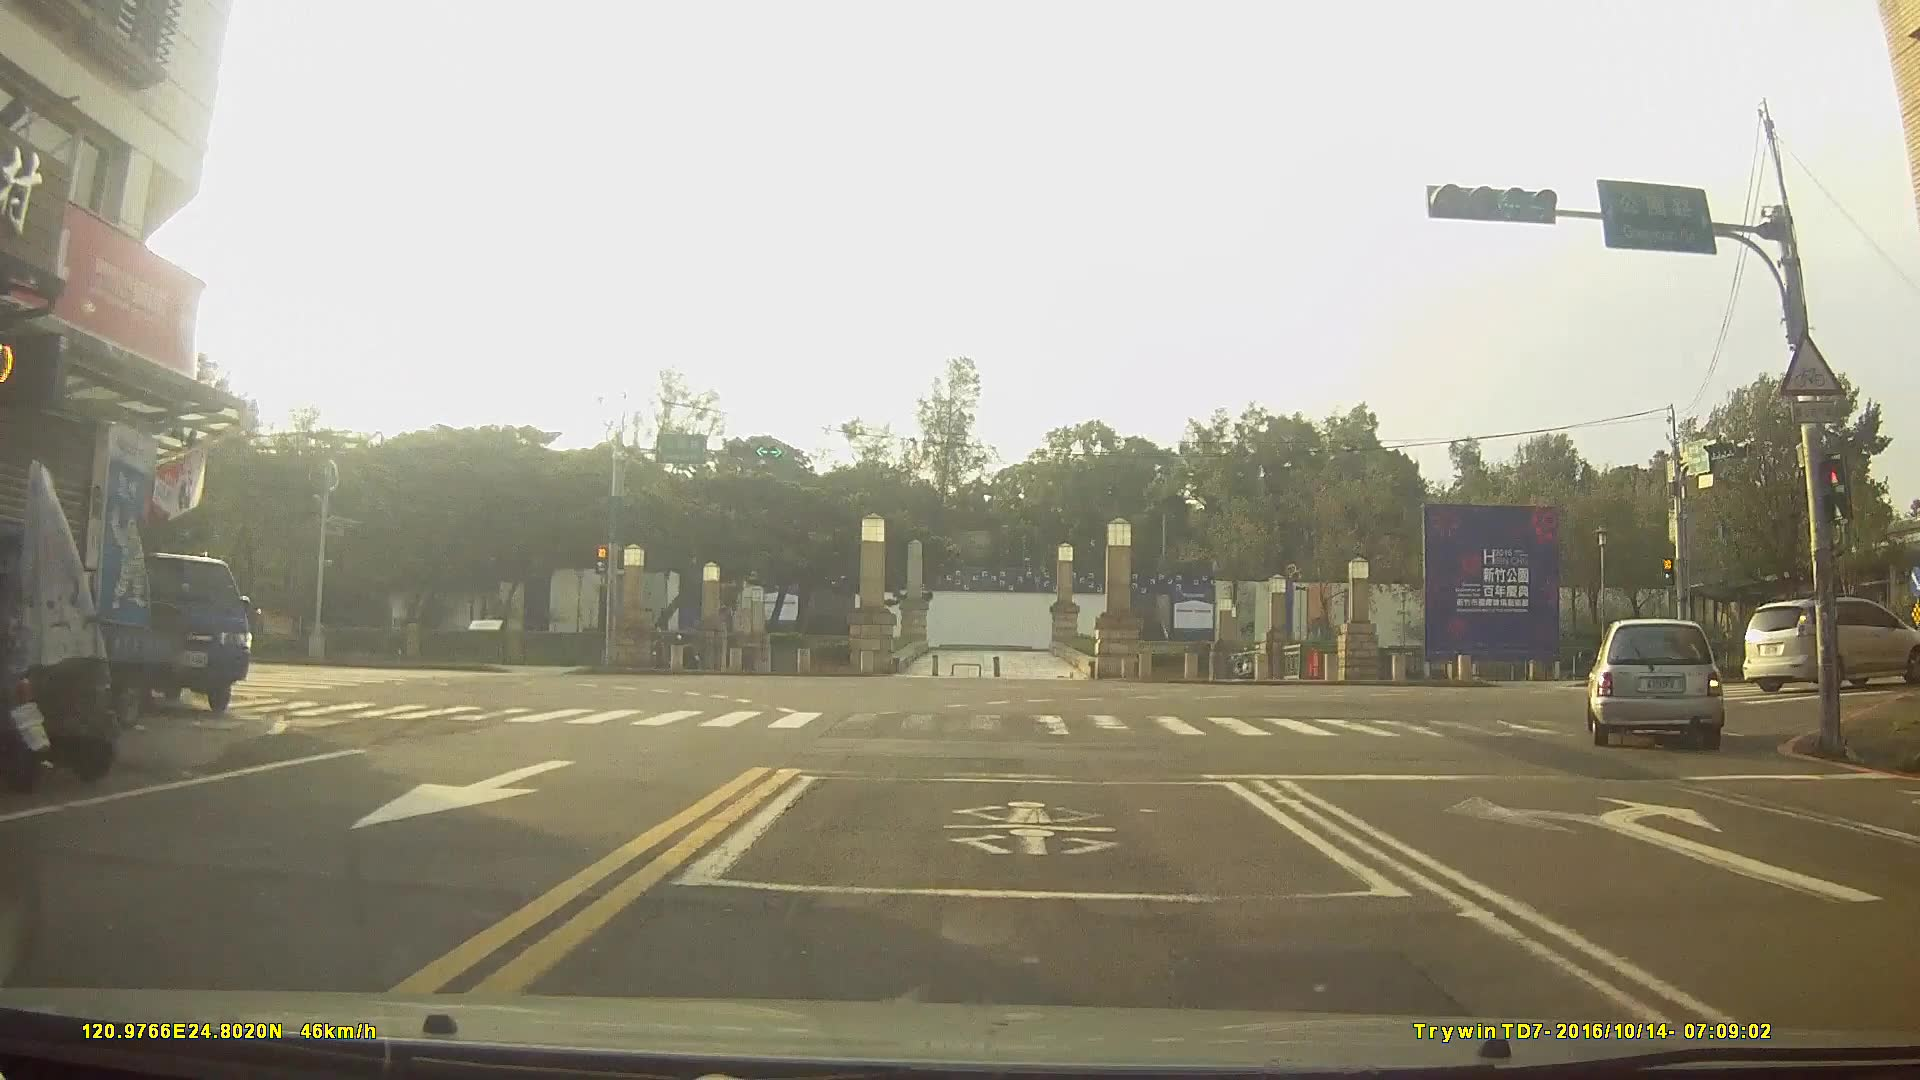vehicle: (127, 546, 249, 713), (1584, 616, 1724, 746), (1741, 595, 1920, 692)
